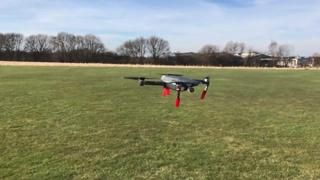UAV: (122, 73, 210, 108)
